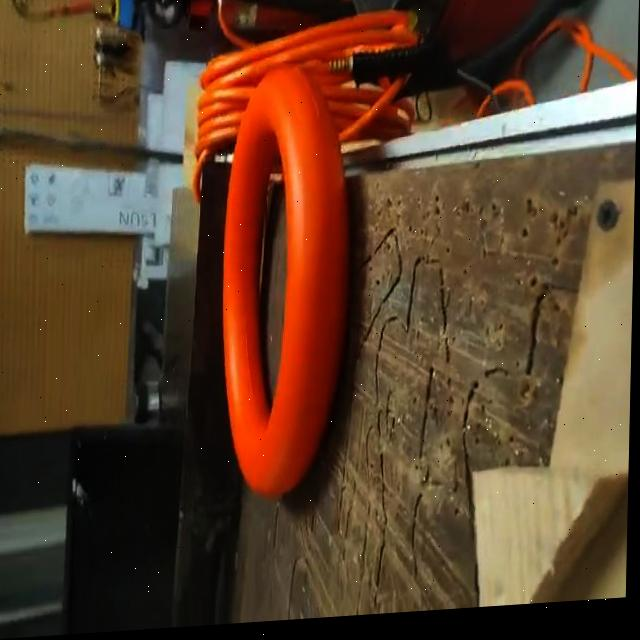note: (216, 67, 362, 507)
